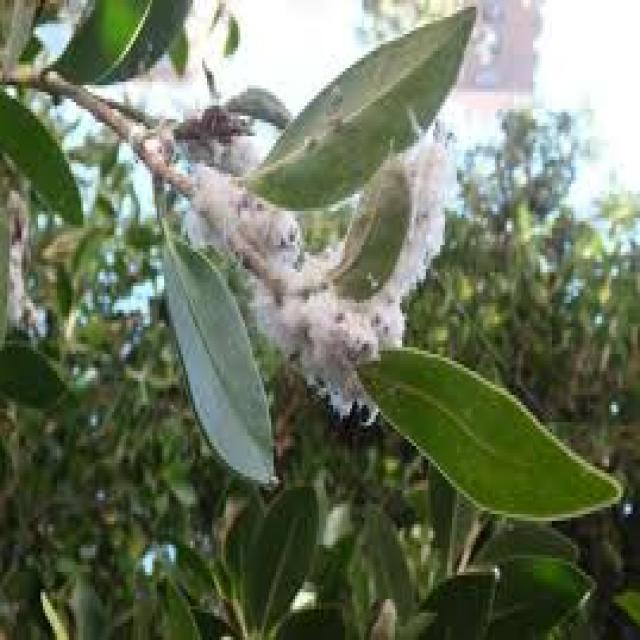Psyllid: (257, 122, 450, 422), (180, 164, 292, 266)
